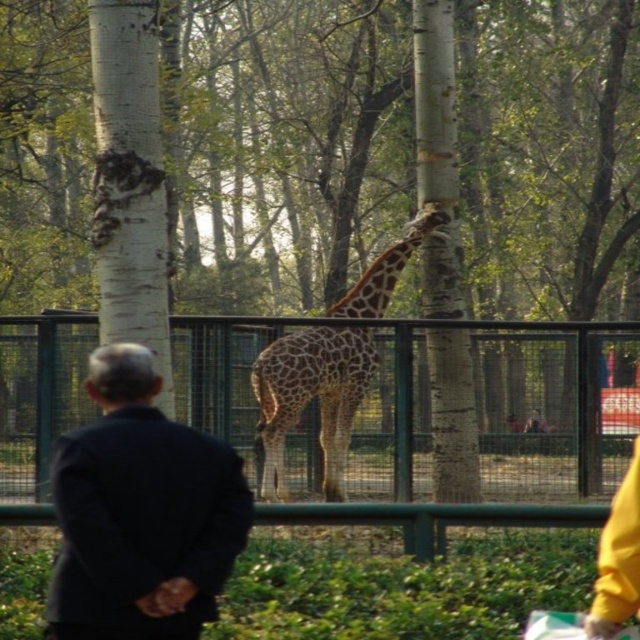Giraffe: (247, 202, 457, 506)
